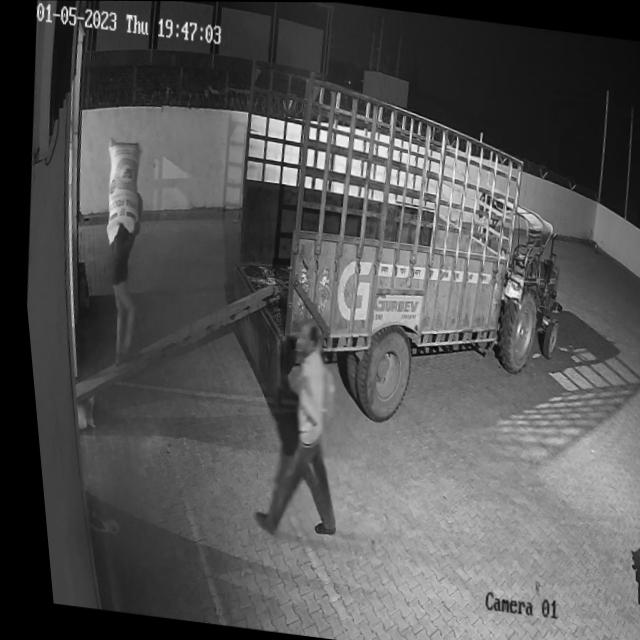sack: (92, 136, 146, 248)
